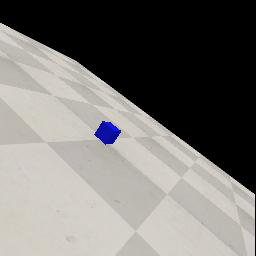box: (94, 121, 121, 145)
